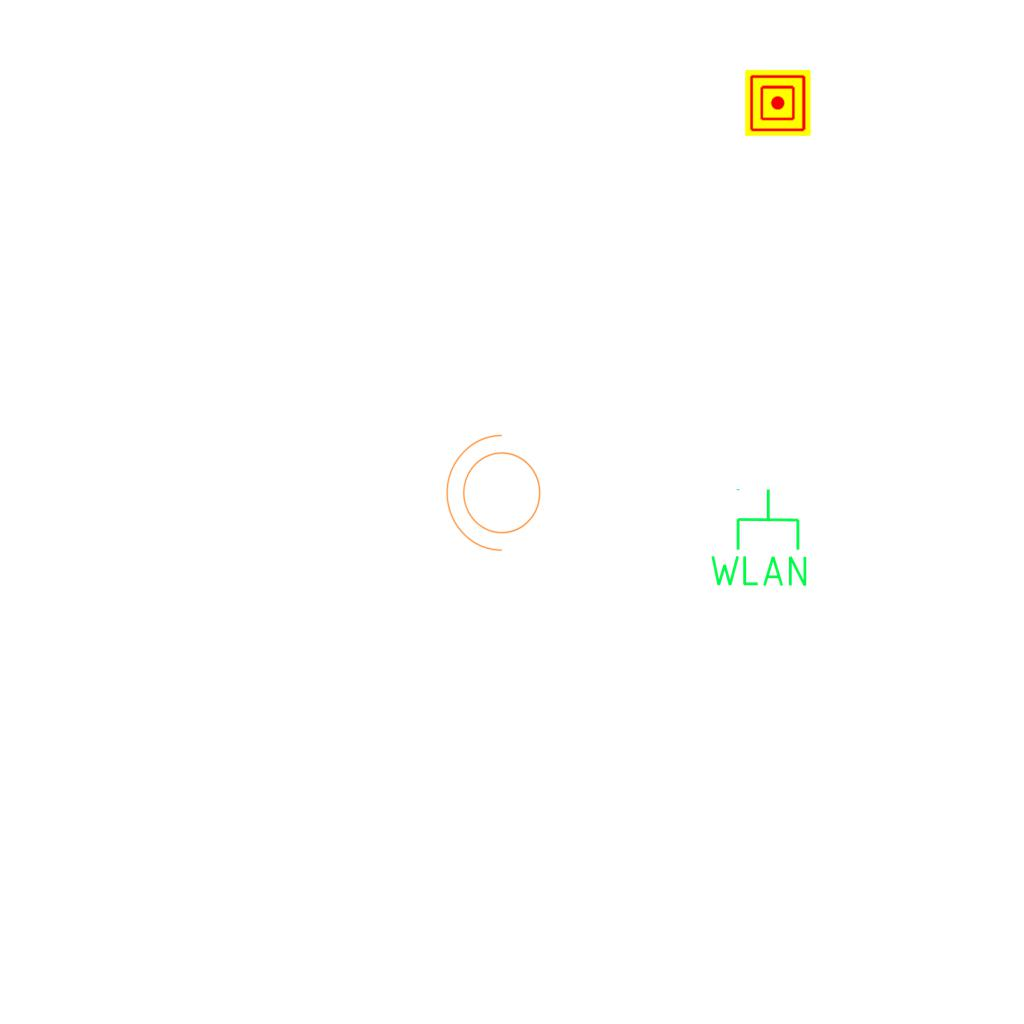NAM-Nichtautomatischer_Melder: (745, 70, 811, 136)
Scheinwerfer_fuer_Alarmbeleuchtung: (441, 430, 553, 562)
WLAN: (706, 486, 811, 590)
